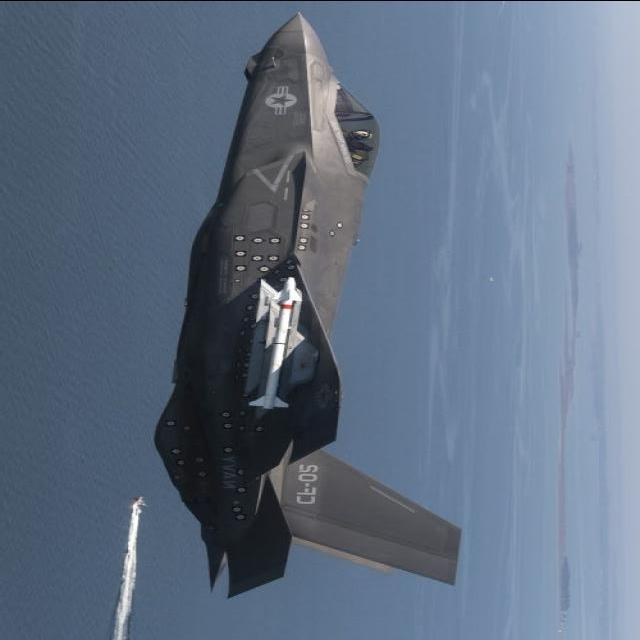missile: (248, 272, 300, 410)
